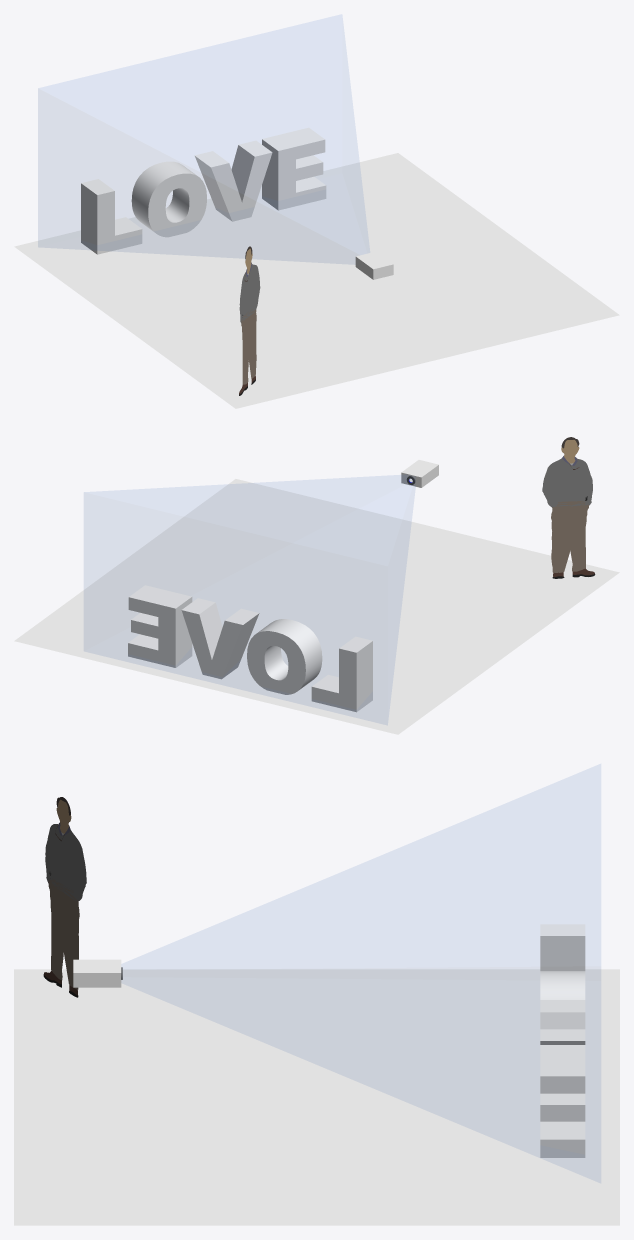
File: SET_01_LETRAS.obj
The picture shows the model from 3 angles, top to bottom: view 1: azimuth 30°, elevation 25°; view 2: azimuth 150°, elevation 25°; view 3: azimuth 270°, elevation 25°; orthographic projection. The views are drawn at different scales.
Visible parts, largest first — view 1: Mesh4 Component_9_1 Group1 Model, Mesh2 Component_7_1 Component_8_1 Group1 Model, Mesh6 Component_10_1 Group1 Model, Mesh8 Component_10_1 Group1 Model, Mesh7 Component_10_1 Group1 Model, Mesh5 Component_10_1 Group1 Model, Mesh1 Derrick1 Group1 Model, Mesh3 Component_6_1 Component_8_1 Group1 Model; view 2: Mesh4 Component_9_1 Group1 Model, Mesh2 Component_7_1 Component_8_1 Group1 Model, Mesh1 Derrick1 Group1 Model, Mesh6 Component_10_1 Group1 Model, Mesh8 Component_10_1 Group1 Model, Mesh7 Component_10_1 Group1 Model, Mesh5 Component_10_1 Group1 Model, Mesh3 Component_6_1 Component_8_1 Group1 Model; view 3: Mesh4 Component_9_1 Group1 Model, Mesh2 Component_7_1 Component_8_1 Group1 Model, Mesh1 Derrick1 Group1 Model, Mesh8 Component_10_1 Group1 Model, Mesh5 Component_10_1 Group1 Model, Mesh7 Component_10_1 Group1 Model, Mesh3 Component_6_1 Component_8_1 Group1 Model, Mesh6 Component_10_1 Group1 Model.
Boxes of the visible parts, box(x1,y1,x2,y2) form: Mesh4 Component_9_1 Group1 Model: box(14, 153, 619, 408); Mesh2 Component_7_1 Component_8_1 Group1 Model: box(38, 15, 369, 263); Mesh6 Component_10_1 Group1 Model: box(131, 161, 206, 237); Mesh8 Component_10_1 Group1 Model: box(262, 127, 326, 210); Mesh7 Component_10_1 Group1 Model: box(194, 140, 272, 221); Mesh5 Component_10_1 Group1 Model: box(81, 179, 142, 254); Mesh1 Derrick1 Group1 Model: box(239, 246, 260, 395); Mesh3 Component_6_1 Component_8_1 Group1 Model: box(355, 251, 393, 279); Mesh4 Component_9_1 Group1 Model: box(14, 479, 619, 734); Mesh2 Component_7_1 Component_8_1 Group1 Model: box(84, 475, 414, 724); Mesh1 Derrick1 Group1 Model: box(542, 437, 595, 578); Mesh6 Component_10_1 Group1 Model: box(247, 619, 322, 694); Mesh8 Component_10_1 Group1 Model: box(128, 585, 192, 667); Mesh7 Component_10_1 Group1 Model: box(181, 598, 259, 679); Mesh5 Component_10_1 Group1 Model: box(311, 636, 372, 712); Mesh3 Component_6_1 Component_8_1 Group1 Model: box(401, 460, 438, 487); Mesh4 Component_9_1 Group1 Model: box(14, 969, 619, 1225); Mesh2 Component_7_1 Component_8_1 Group1 Model: box(122, 764, 600, 1182); Mesh1 Derrick1 Group1 Model: box(43, 797, 86, 997); Mesh8 Component_10_1 Group1 Model: box(540, 1045, 585, 1157); Mesh5 Component_10_1 Group1 Model: box(540, 924, 585, 970); Mesh7 Component_10_1 Group1 Model: box(540, 1000, 585, 1044); Mesh3 Component_6_1 Component_8_1 Group1 Model: box(73, 959, 122, 987); Mesh6 Component_10_1 Group1 Model: box(540, 971, 585, 999).
Size of the model in its own units: 5000 by 1993 by 5000.
